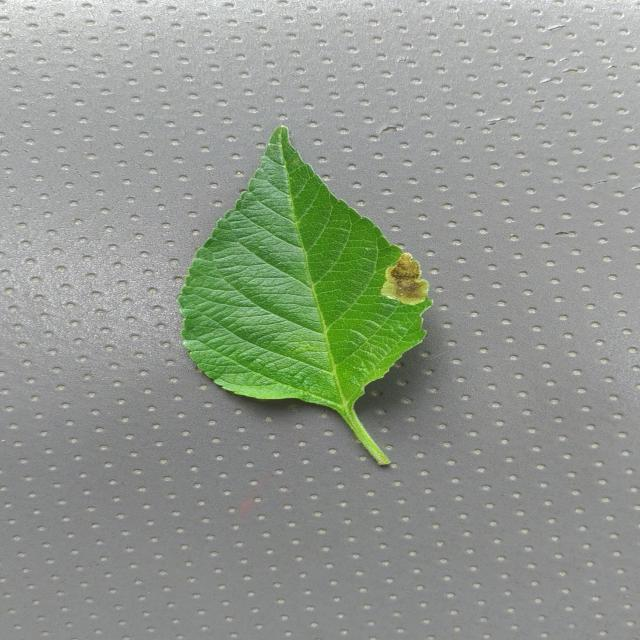Lantana: (178, 126, 431, 465)
